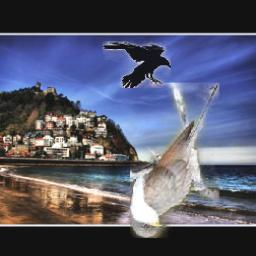Crow: (104, 41, 172, 88)
Cuckoo: (130, 84, 219, 239)
